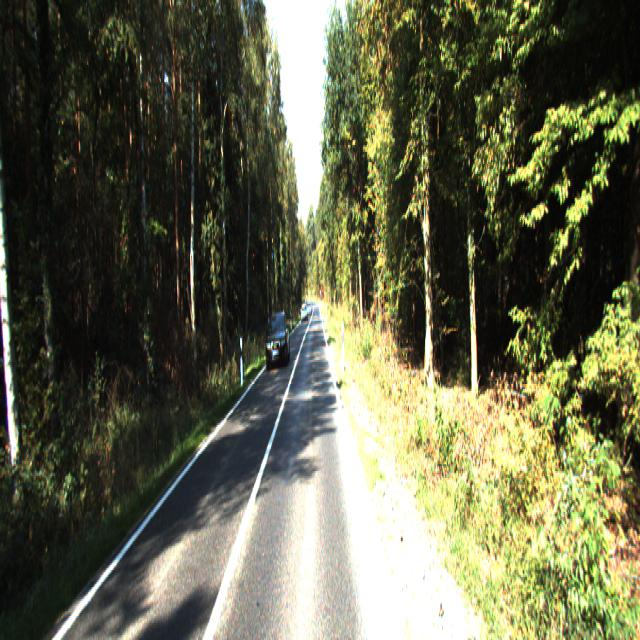Car: (266, 311, 290, 370)
